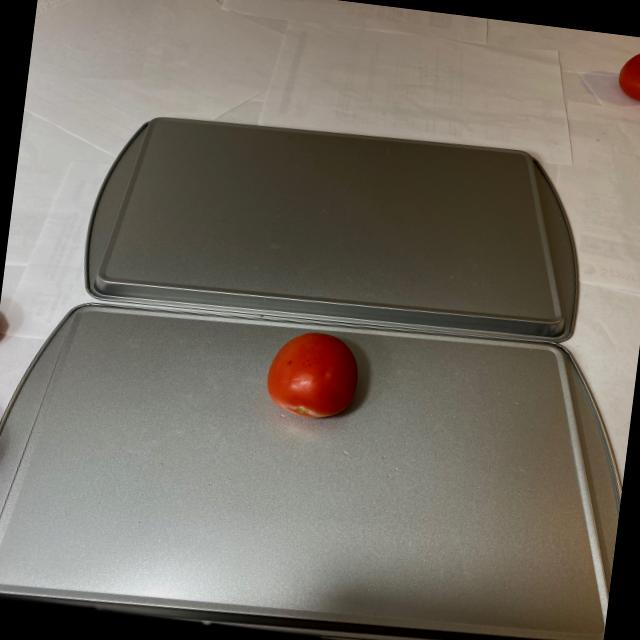tomato: (259, 324, 362, 424), (609, 40, 640, 122)
